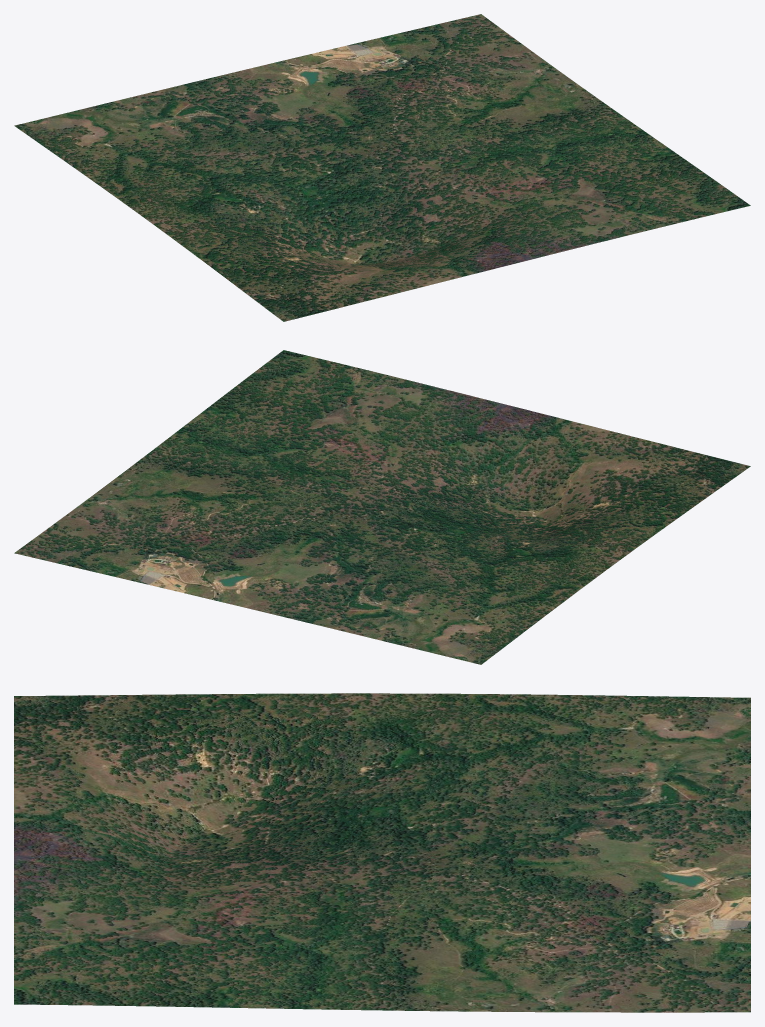
The model's file is terrain_real_T_E04_N04.glb.
3 views of the same model, one above another, from view 1: azimuth 30°, elevation 25°; view 2: azimuth 150°, elevation 25°; view 3: azimuth 270°, elevation 25° (orthographic). The views are drawn at different scales.
Visible parts, largest first — view 1: Terrain_Real_DEM_T_E04_N04; view 2: Terrain_Real_DEM_T_E04_N04; view 3: Terrain_Real_DEM_T_E04_N04.
Boxes of the visible parts, x1,y1,x2,y2 form: Terrain_Real_DEM_T_E04_N04: [14, 14, 750, 321]; Terrain_Real_DEM_T_E04_N04: [14, 350, 750, 664]; Terrain_Real_DEM_T_E04_N04: [14, 693, 750, 1012].
Bounding box in the file's own units: 2000 × 126 × 2000.
Materials: 1 (1 with a texture image).
